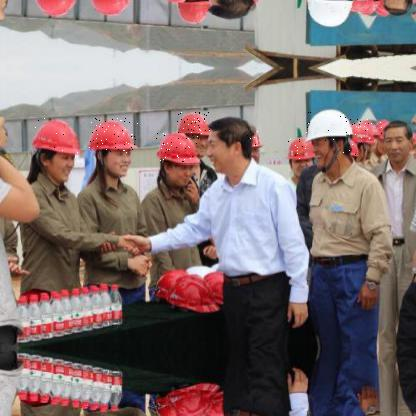safetyhelmet: (30, 116, 85, 154), (89, 118, 139, 154), (304, 110, 353, 142), (156, 134, 201, 166), (177, 112, 212, 136), (286, 136, 315, 160), (346, 119, 371, 142), (358, 118, 379, 136), (374, 118, 388, 140), (343, 136, 358, 156), (247, 130, 260, 150)
